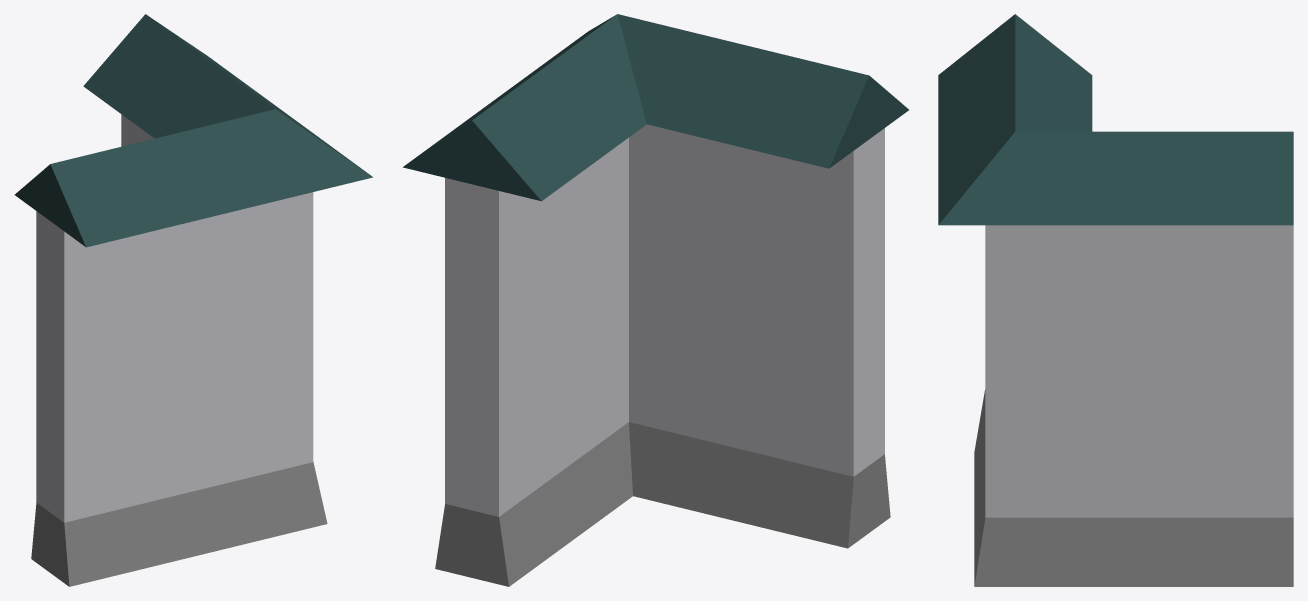
The model's file is Asian_Prop_Building_Fence_Wall_Simple_Corner_01.FBX.
3 views of the same model, side by side, from view 1: azimuth 30°, elevation 25°; view 2: azimuth 150°, elevation 25°; view 3: azimuth 270°, elevation 25° (orthographic). The views are drawn at different scales.
Parts seen in each view (by area): view 1: Asian_Prop_Building_Fence_Wall_Simple_Corner_01; view 2: Asian_Prop_Building_Fence_Wall_Simple_Corner_01; view 3: Asian_Prop_Building_Fence_Wall_Simple_Corner_01.
Boxes of the visible parts, <box> form: Asian_Prop_Building_Fence_Wall_Simple_Corner_01: <box>14,14,372,586</box>; Asian_Prop_Building_Fence_Wall_Simple_Corner_01: <box>403,14,908,586</box>; Asian_Prop_Building_Fence_Wall_Simple_Corner_01: <box>938,14,1293,586</box>.
Size of the model in its own units: 2979 by 4051 by 2979.
